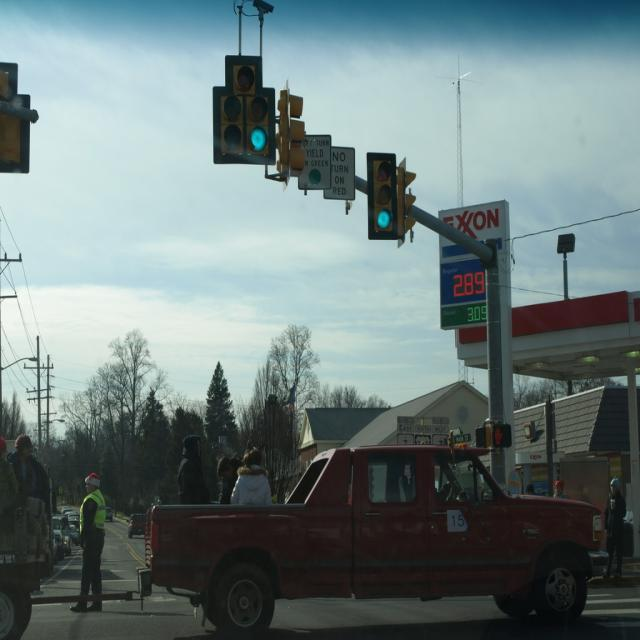off traffic light: (274, 85, 306, 182)
traffic light: (213, 54, 274, 162), (368, 151, 398, 237)
